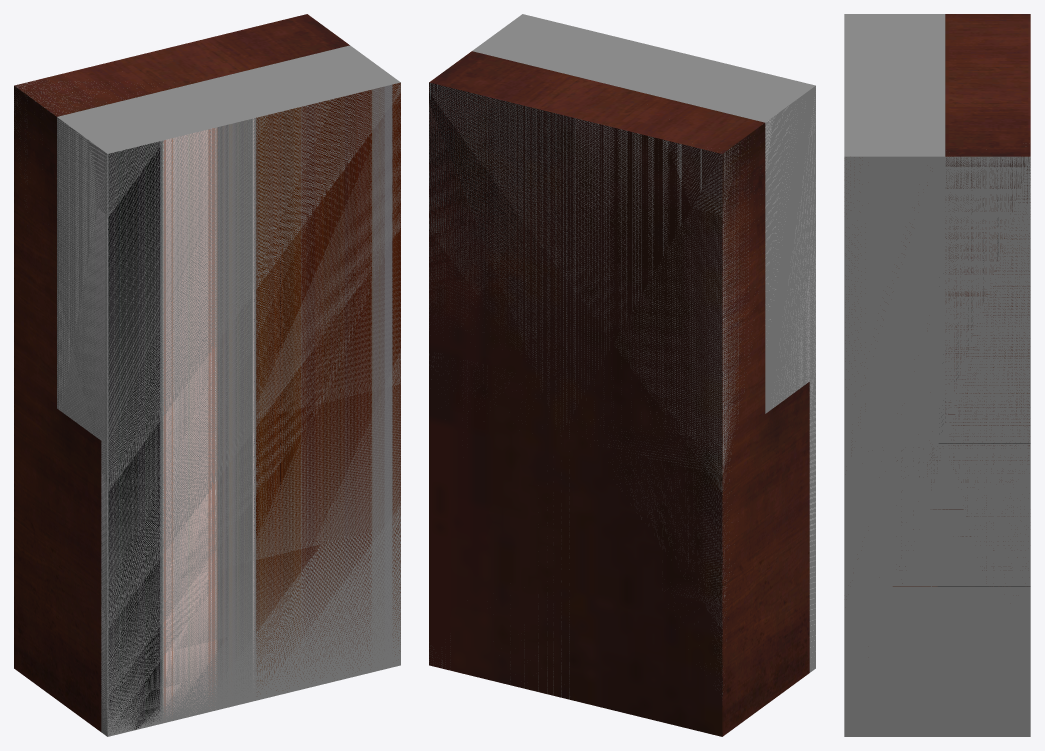
Rendered from waiters_station.FBX.
3 renders of one model, left to right at view 1: azimuth 30°, elevation 25°; view 2: azimuth 150°, elevation 25°; view 3: azimuth 270°, elevation 25°, orthographic.
Visible parts, largest first — view 1: bounds, colbox-1, waiters_station100; view 2: waiters_station100, bounds, colbox-1; view 3: bounds, waiters_station100.
Part boxes in pixels (x1,y1,x2,y2): bounds: (14,45,400,736); colbox-1: (57,82,400,733); waiters_station100: (14,14,349,731); waiters_station100: (429,51,809,736); bounds: (429,14,815,699); colbox-1: (429,83,815,657); bounds: (844,14,1030,736); waiters_station100: (897,14,1030,586).
Bounding box in the file's own units: 129 × 245 × 71.43.
